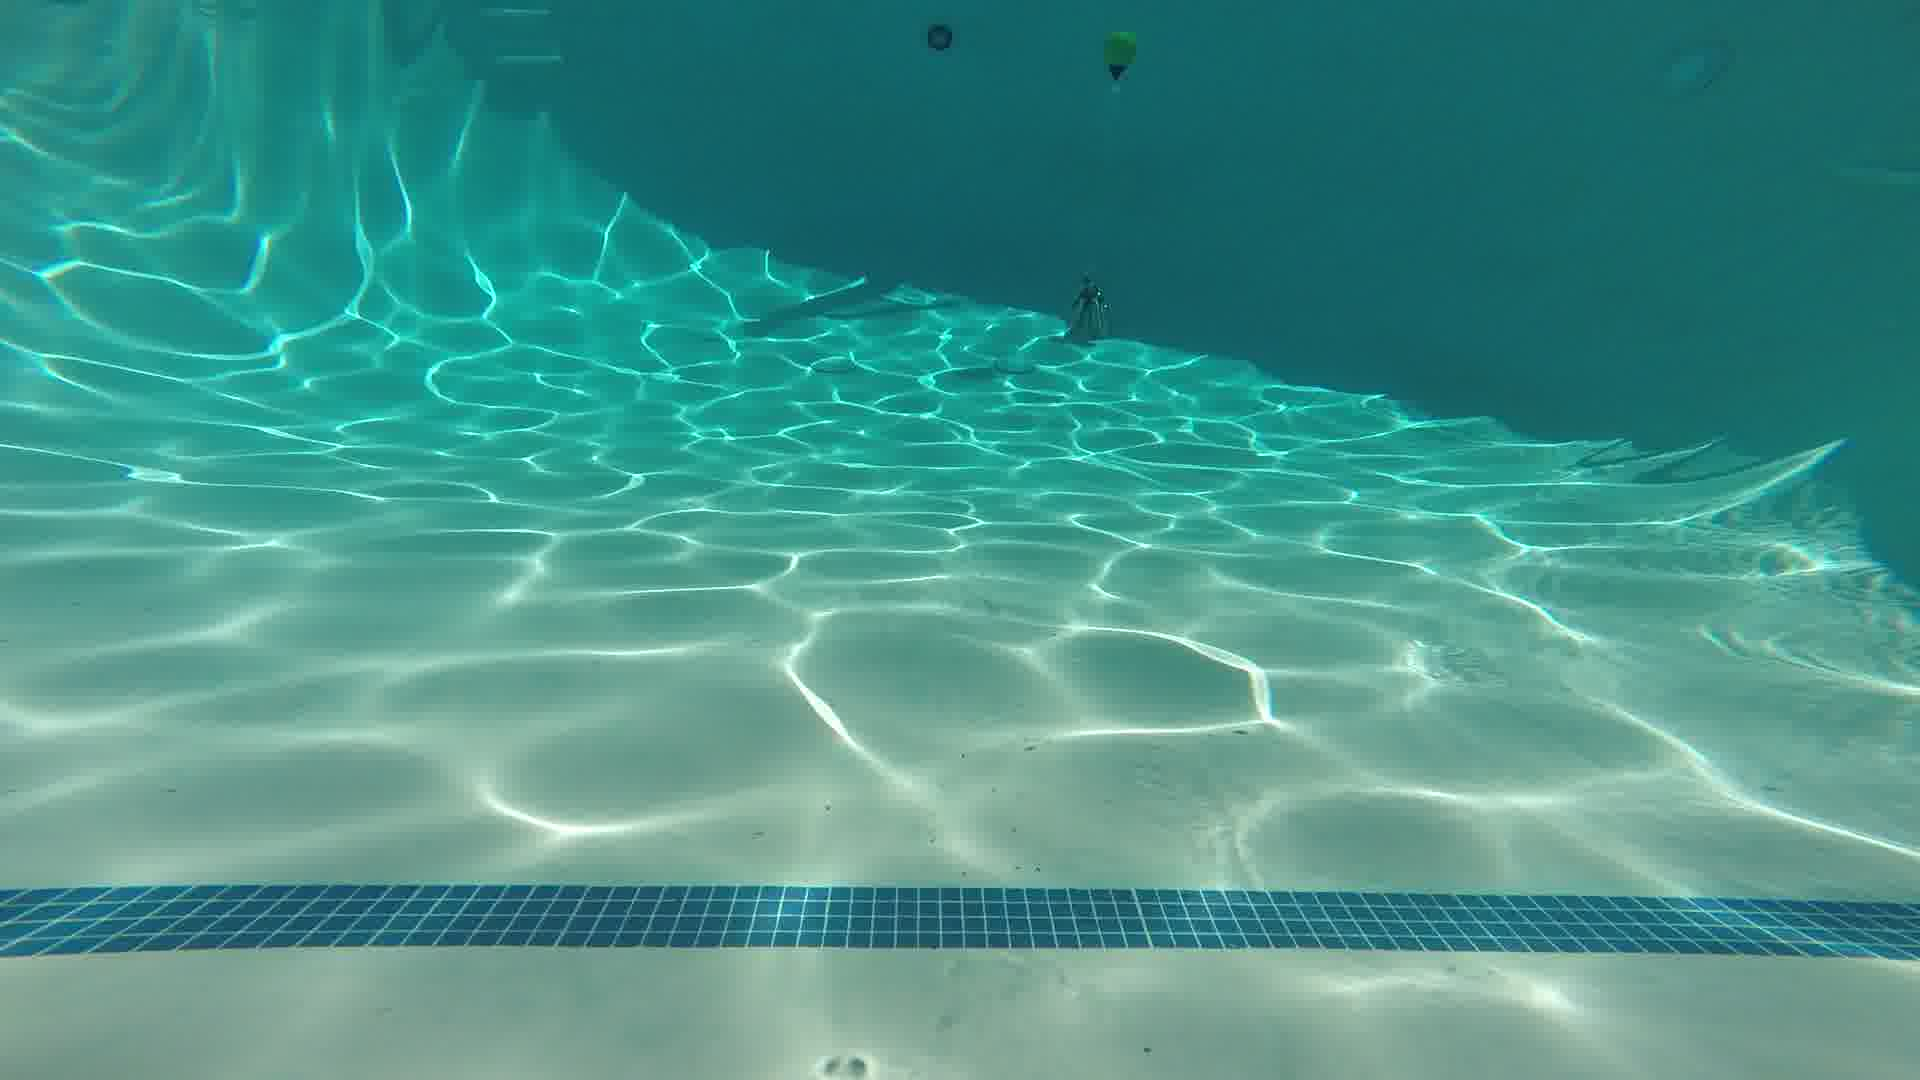yellow buoy: (1102, 21, 1139, 98)
